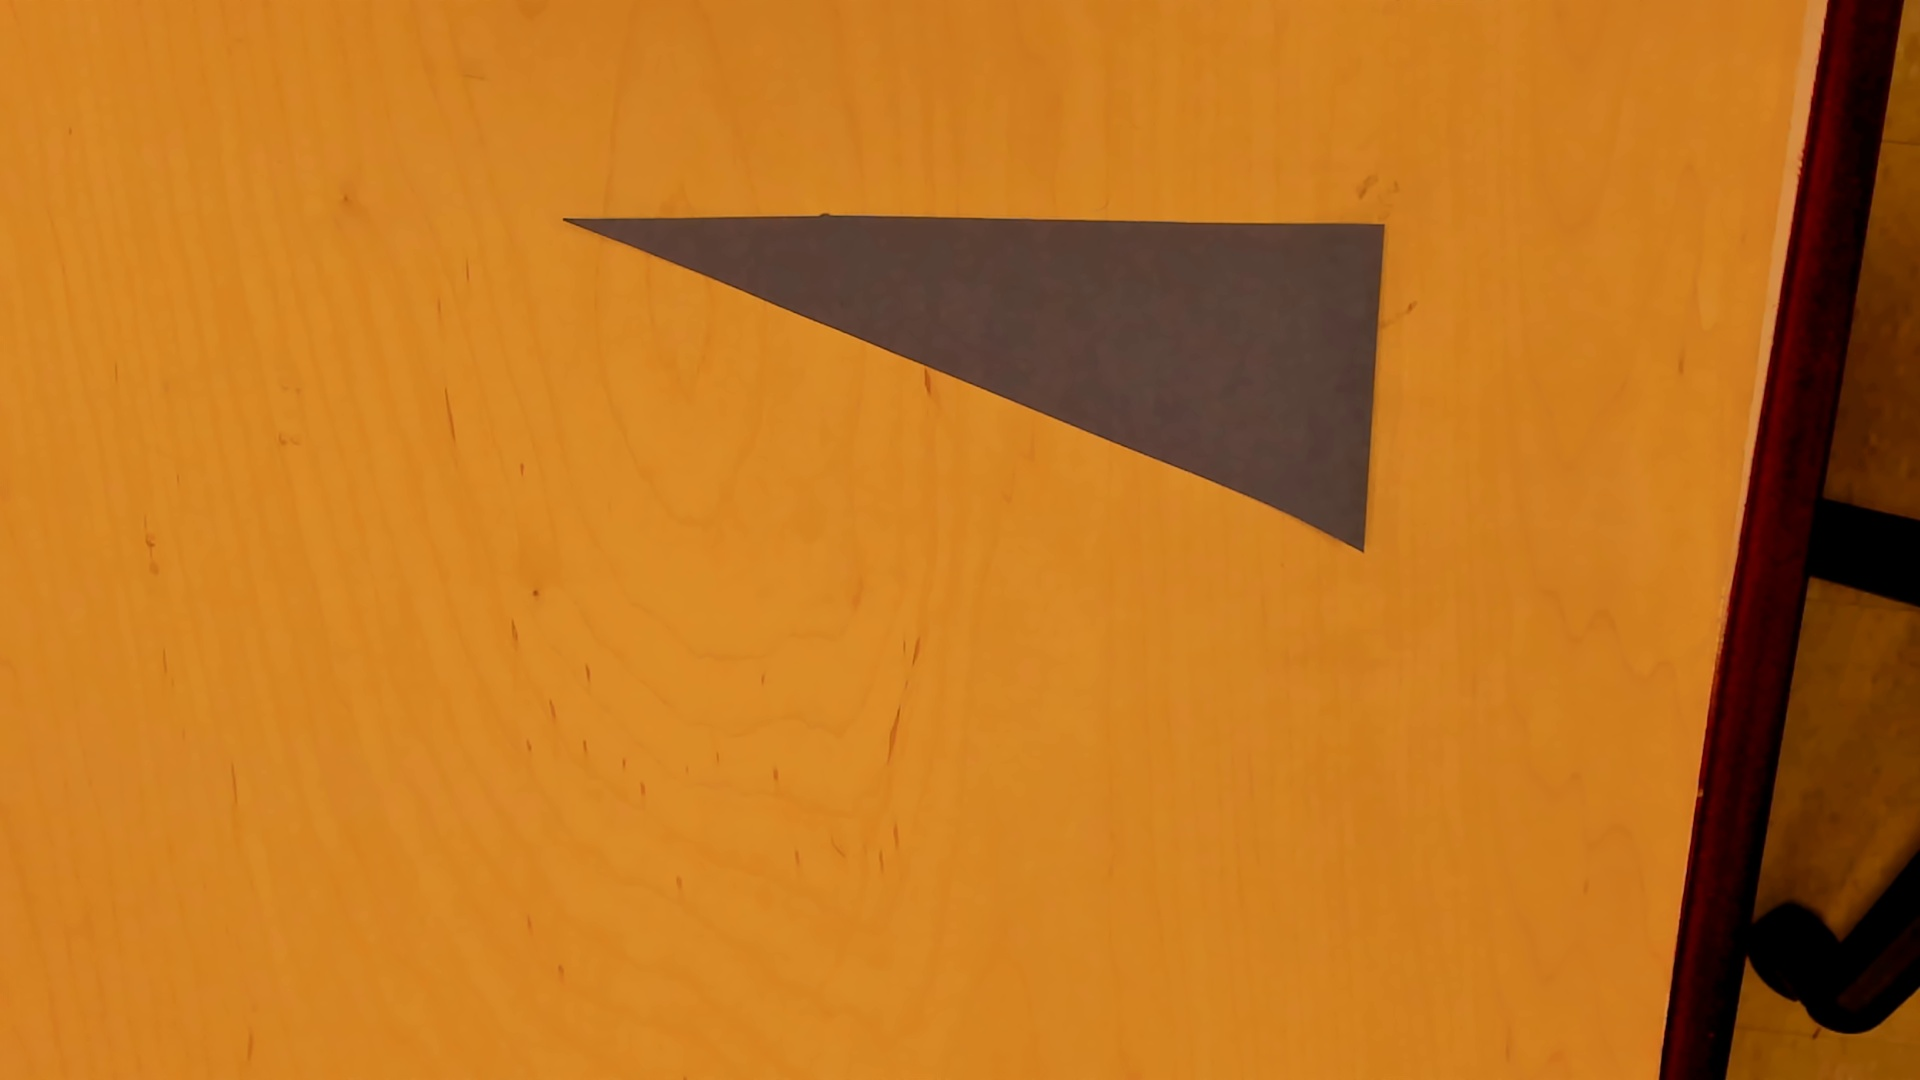PT: (560, 215, 1389, 559)
